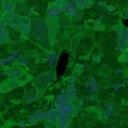alloviz: (54, 48, 71, 79), (119, 17, 128, 27)
